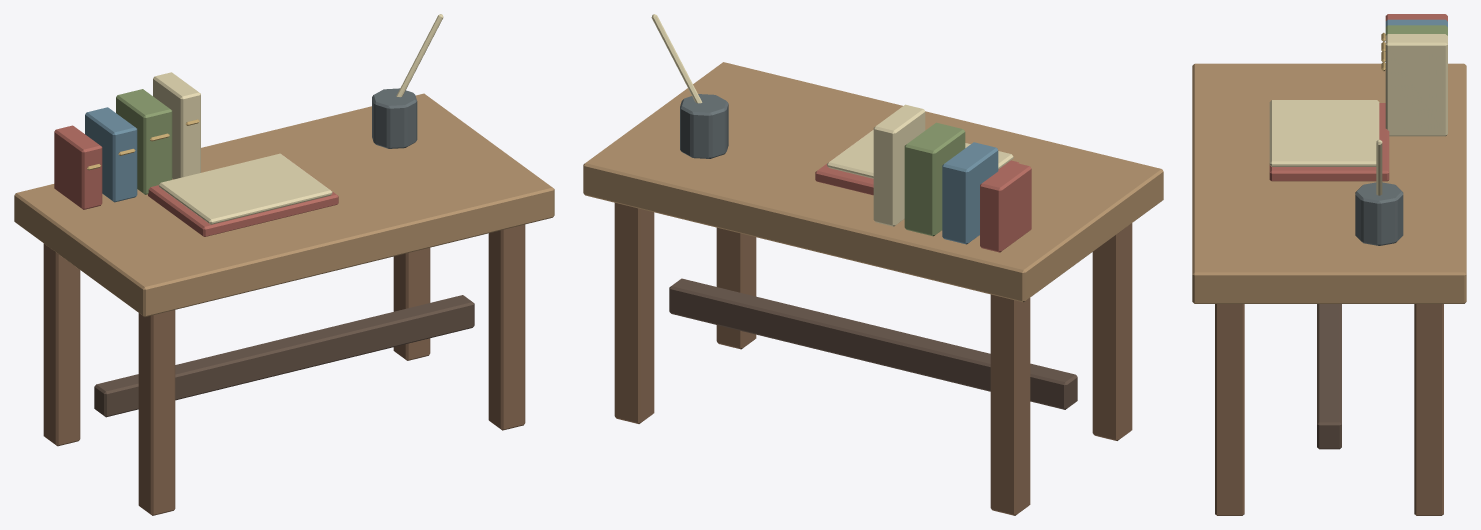
Rendered from reading_desk.glb.
3 views of the same model, side by side, from view 1: azimuth 30°, elevation 25°; view 2: azimuth 150°, elevation 25°; view 3: azimuth 270°, elevation 25° (orthographic). The views are drawn at different scales.
Parts seen in each view (by area): view 1: TV_reading_desk; view 2: TV_reading_desk; view 3: TV_reading_desk.
Part boxes in pixels (<box>): TV_reading_desk: <box>14,14,554,515</box>; TV_reading_desk: <box>583,14,1163,515</box>; TV_reading_desk: <box>1192,14,1466,515</box>.
Size of the model in its own units: 2 by 1.65 by 1.1.
